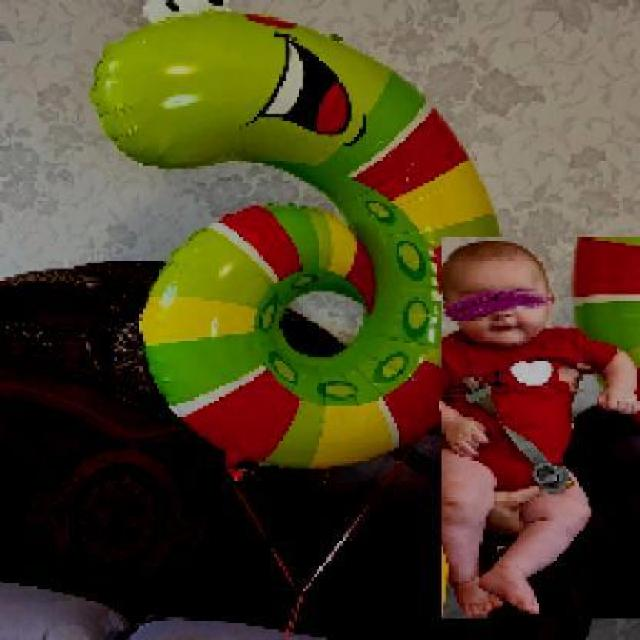child: (440, 237, 640, 620)
